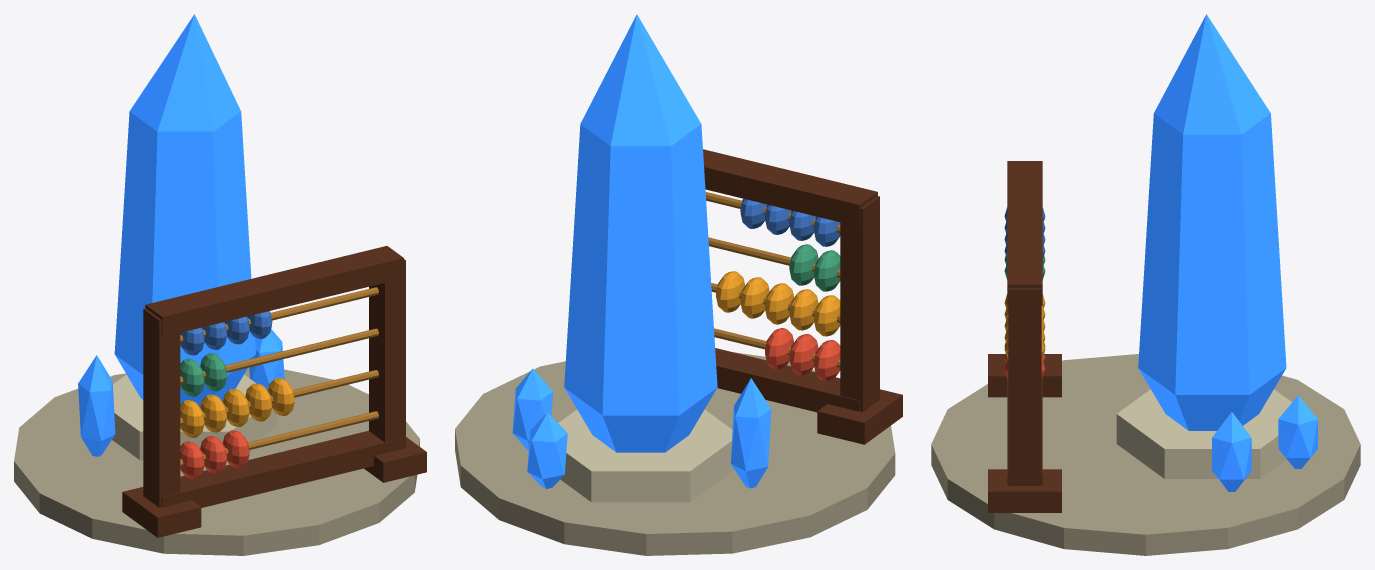
File: landmark_maths.glb
The picture shows the model from 3 angles, left to right: view 1: azimuth 30°, elevation 25°; view 2: azimuth 150°, elevation 25°; view 3: azimuth 270°, elevation 25°; orthographic projection. The views are drawn at different scales.
Parts seen in each view (by area): view 1: landmark_maths; view 2: landmark_maths; view 3: landmark_maths.
Boxes of the visible parts, x1,y1,x2,y2 form: landmark_maths: (14, 14, 426, 555); landmark_maths: (455, 14, 902, 555); landmark_maths: (931, 14, 1360, 555).
Size of the model in its own units: 2.2 by 2.57 by 2.2.
